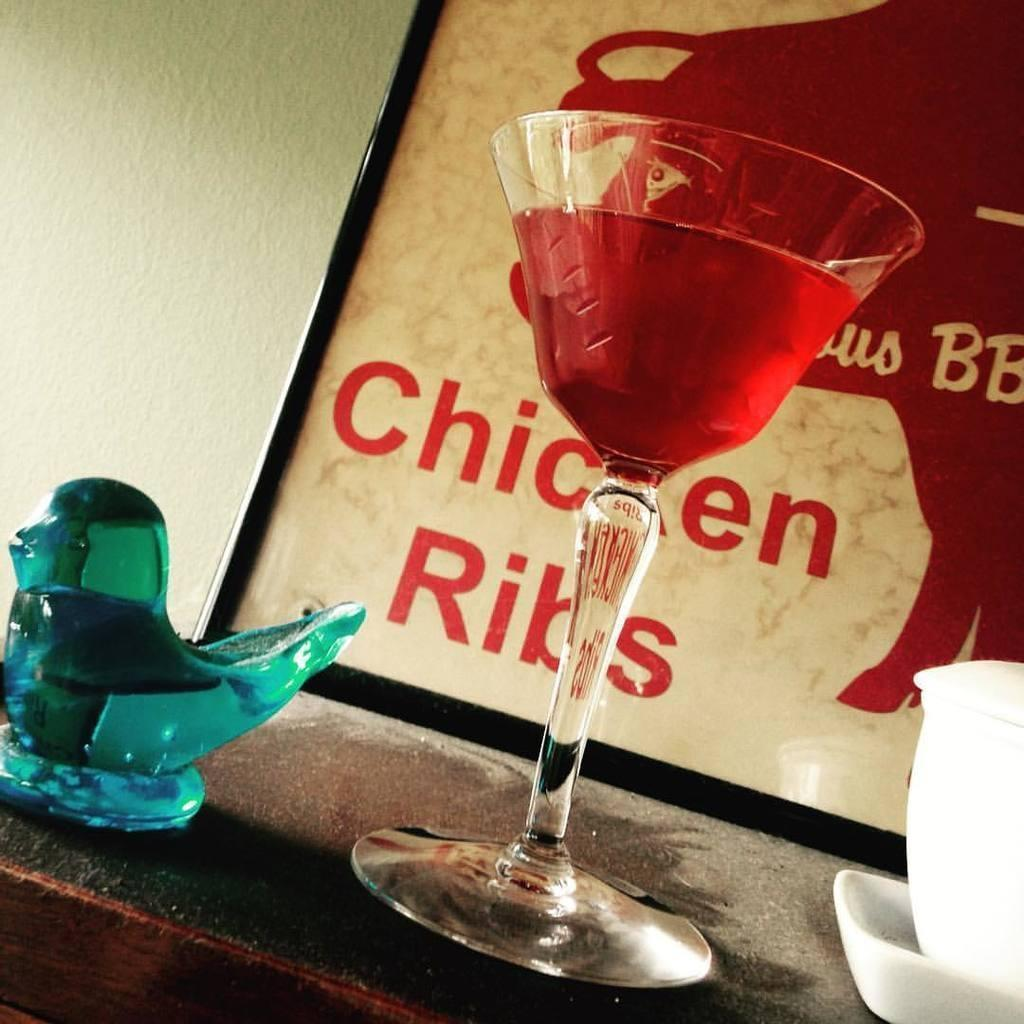glass-wine: (353, 107, 923, 990)
